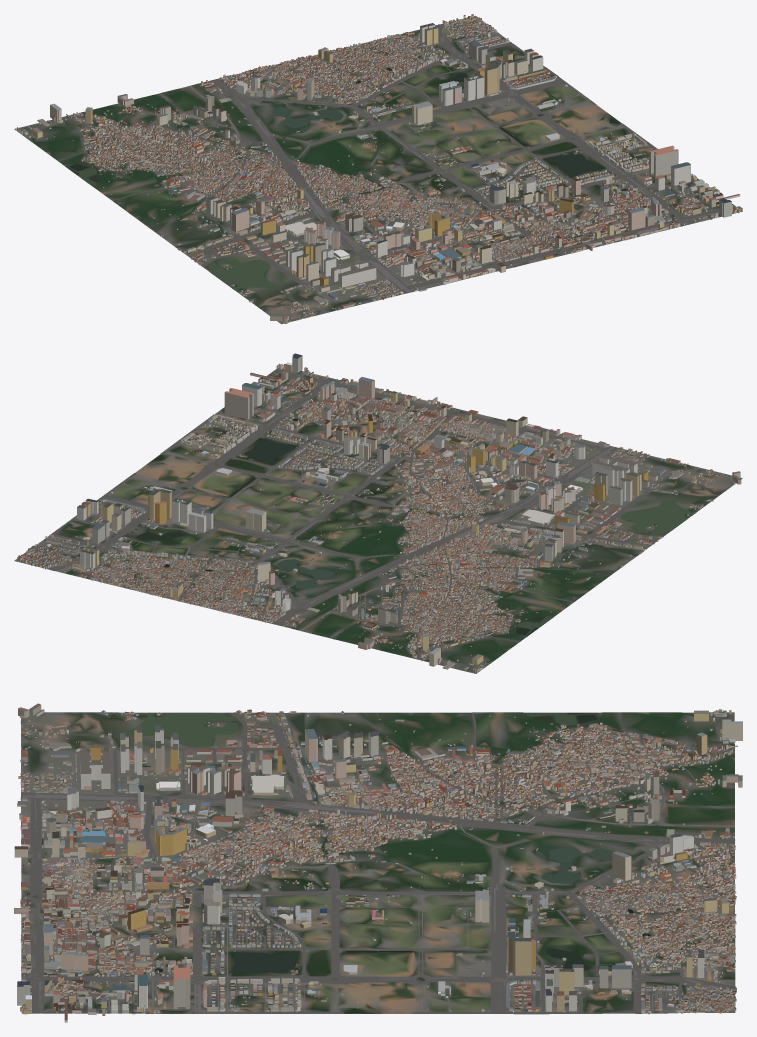
3 views of the same model, one above another, from view 1: azimuth 30°, elevation 25°; view 2: azimuth 150°, elevation 25°; view 3: azimuth 270°, elevation 25° (orthographic). The views are drawn at different scales.
Parts seen in each view (by area): view 1: buildings, ground, roads, water; view 2: buildings, ground, roads, water; view 3: ground, buildings, roads, water.
Part boxes in pixels (box(x1,y1,x2,y2)): buildings: box(15, 14, 742, 323); ground: box(14, 15, 742, 324); roads: box(70, 16, 735, 320); water: box(65, 57, 627, 289); buildings: box(17, 353, 741, 672); ground: box(14, 368, 742, 673); roads: box(15, 368, 730, 659); water: box(100, 418, 694, 639); ground: box(21, 712, 735, 1013); buildings: box(14, 703, 742, 1022); roads: box(20, 712, 736, 1014); water: box(23, 712, 719, 973).
Bounding box in the file's own units: 2911 × 156 × 2863.
